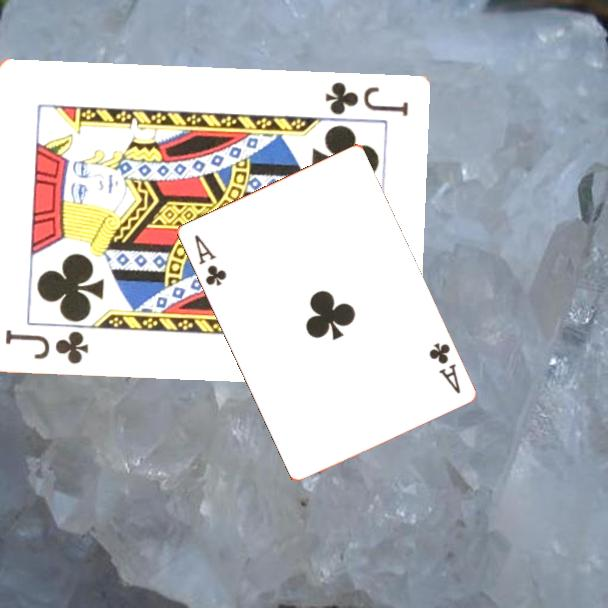c01: (190, 231, 229, 289), (425, 339, 463, 396)
c11: (1, 327, 91, 368), (321, 79, 411, 120)
